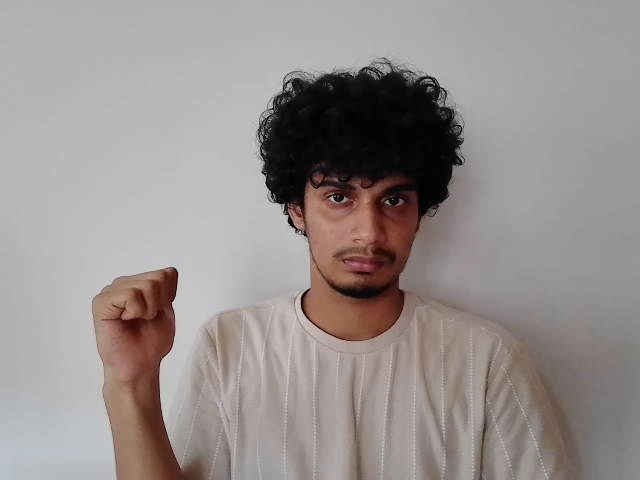how: (89, 270, 183, 377)
